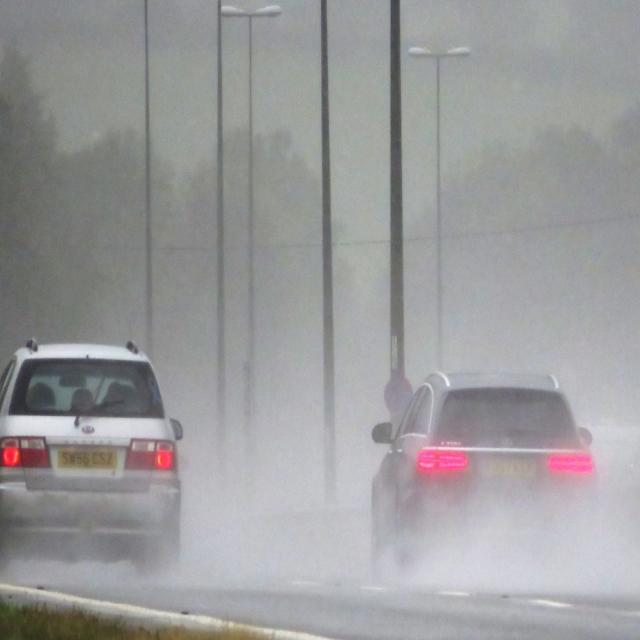car: (372, 371, 597, 582), (0, 340, 184, 579)
